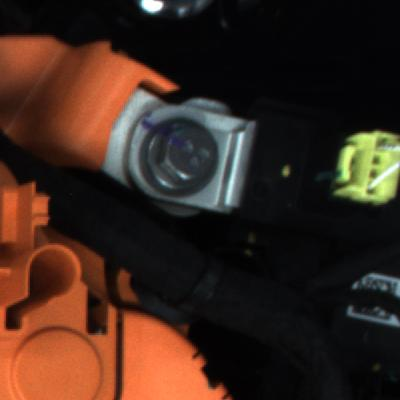nut_b: (133, 117, 227, 193)
